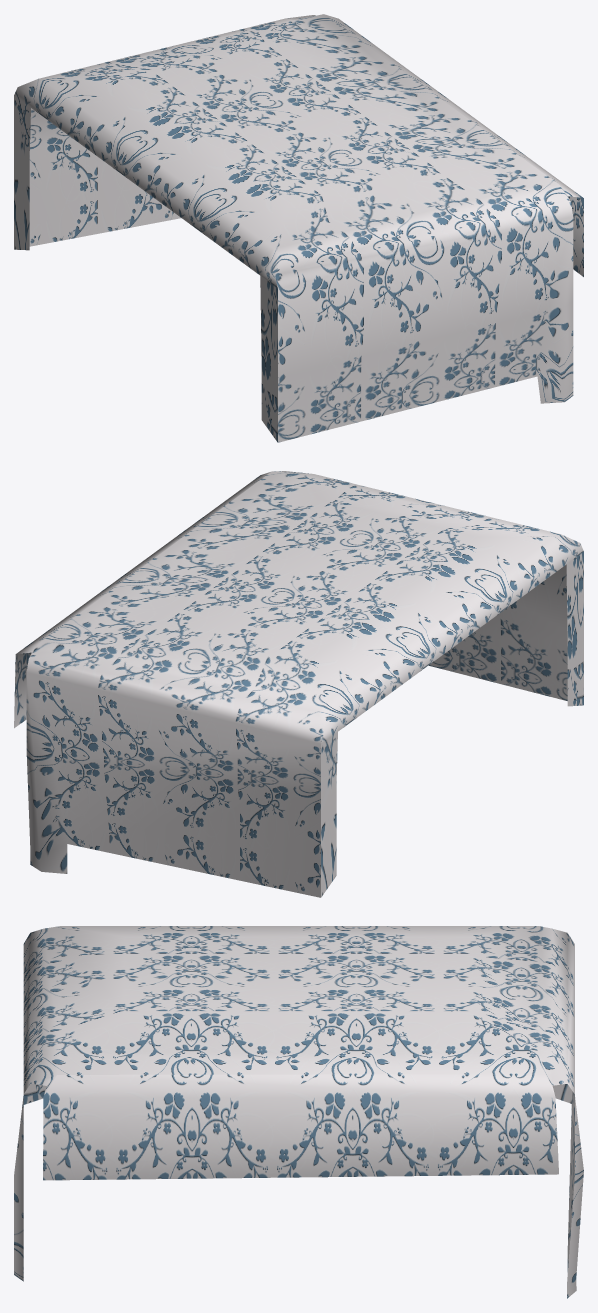
File: Bedcomforter.FBX
The picture shows the model from 3 angles, top to bottom: view 1: azimuth 30°, elevation 25°; view 2: azimuth 150°, elevation 25°; view 3: azimuth 270°, elevation 25°; orthographic projection. The views are drawn at different scales.
Visible parts, largest first — view 1: comforter; view 2: comforter; view 3: comforter.
Boxes of the visible parts, <box> form: comforter: <box>14,14,583,442</box>; comforter: <box>14,471,583,897</box>; comforter: <box>14,926,583,1298</box>.
Size of the model in its own units: 129 by 90.34 by 193.
1 material, 1 textured.
